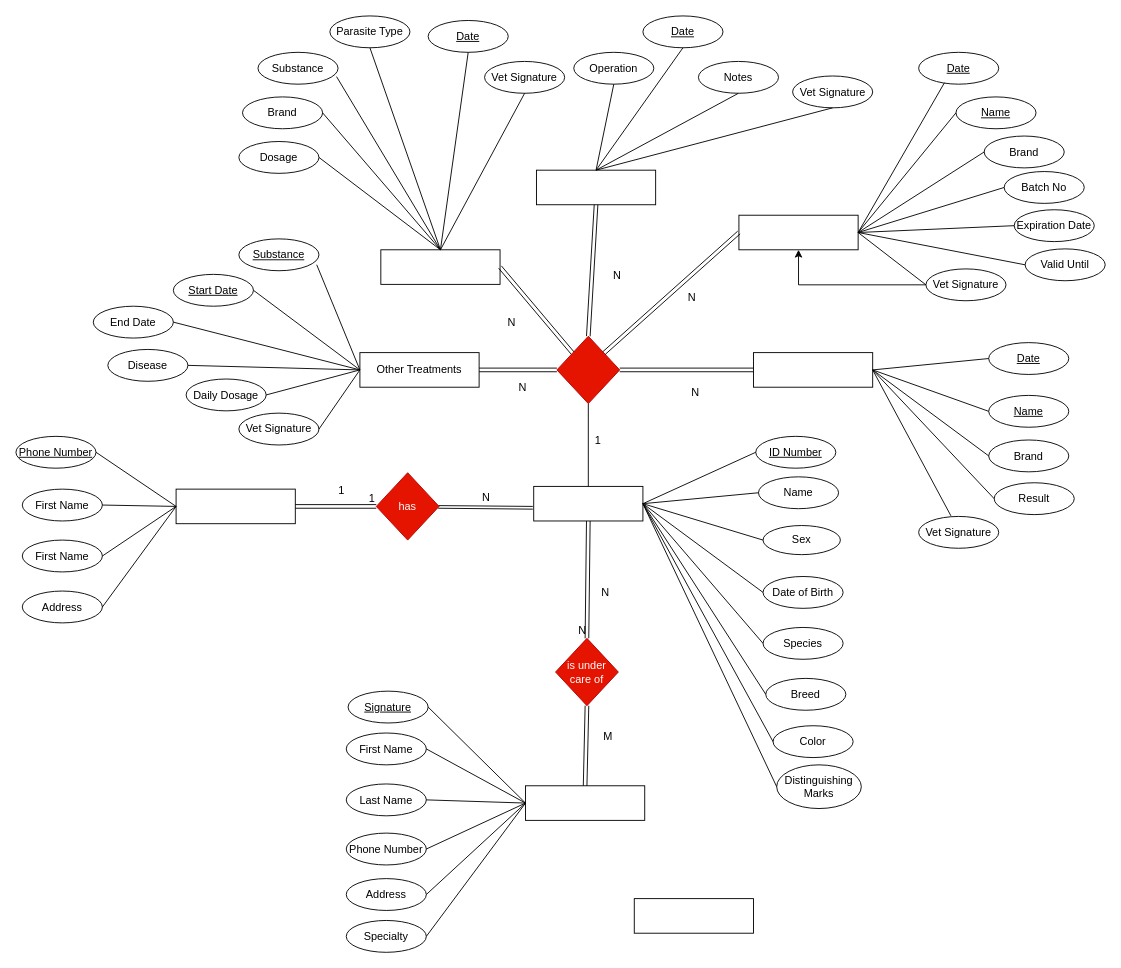
The diagram is 1121 pixels wide and 968 high, and some of its shapes have lost their labels. Each missing label, with the centre of its shape:
"Animal" goes at point (588, 503).
"Animal Owner" goes at point (235, 506).
"Antiparasitic Treatments" goes at point (440, 266).
"Clinic" goes at point (693, 915).
"Diagnostic Tests" goes at point (813, 369).
"Surgeries" goes at point (596, 187).
"undergoes" goes at point (588, 369).
"Vaccinations" goes at point (798, 232).
"Veterinarian" goes at point (585, 802).
